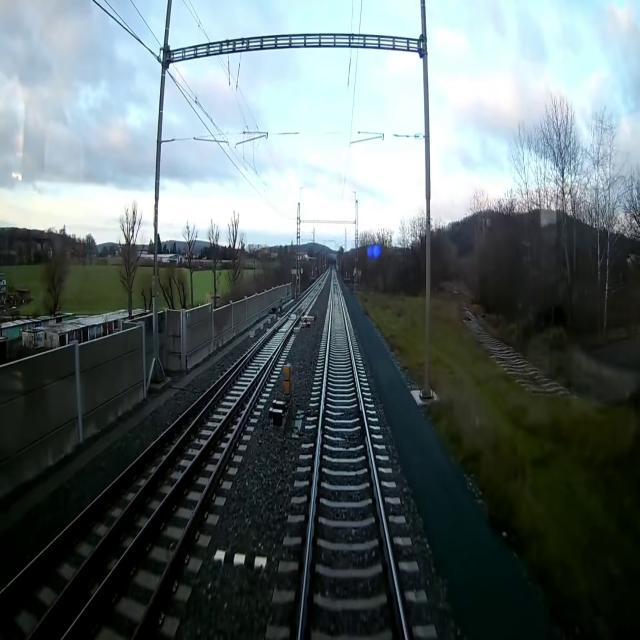rail-track: (31, 271, 328, 639), (0, 365, 236, 639), (64, 355, 273, 639), (301, 267, 405, 639)
